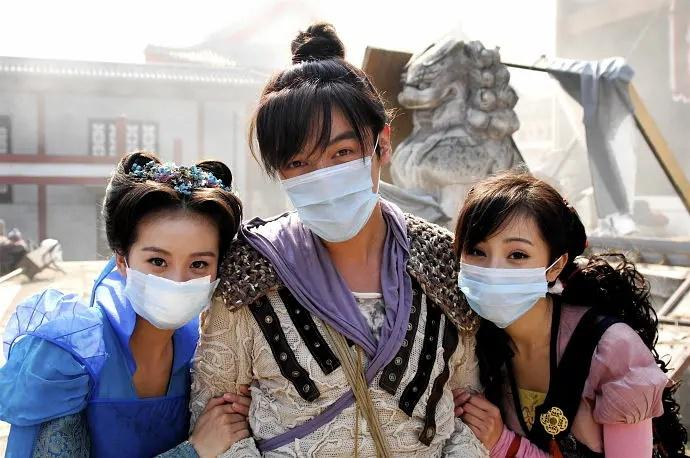OK: (279, 122, 377, 243), (460, 230, 547, 329), (132, 231, 218, 330)
